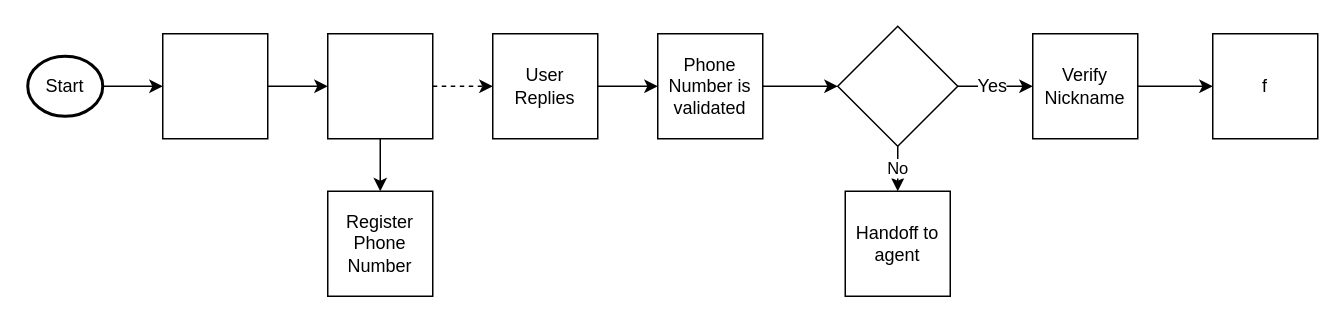
Image size: 1344x323. Some labels were removed from this diagram. Each missing label, with the box of its shape:
Campaign Executed: (161, 32, 268, 139)
Is Valid?: (836, 25, 958, 146)
Outbound sms.: (326, 32, 433, 139)
